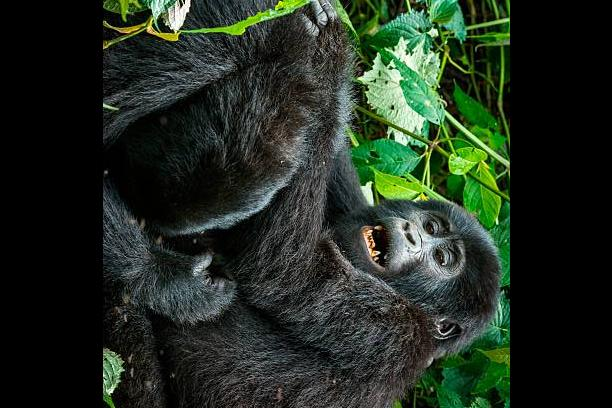goriile_montagne: (126, 189, 502, 408)
